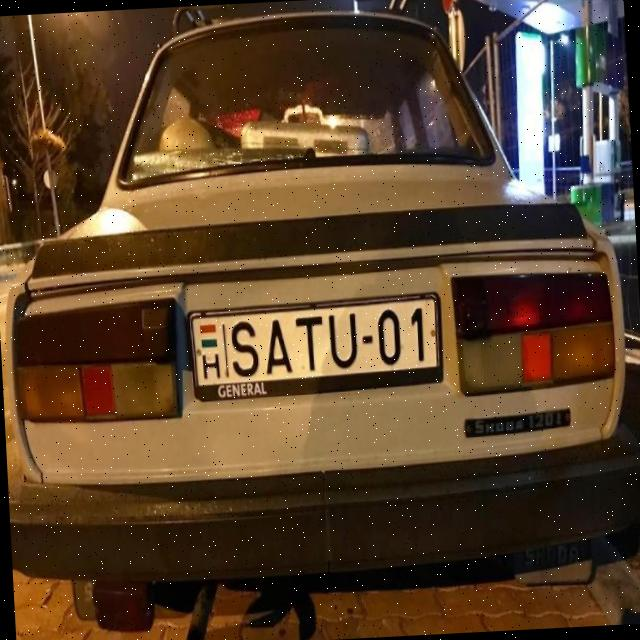licence: (187, 292, 447, 404)
